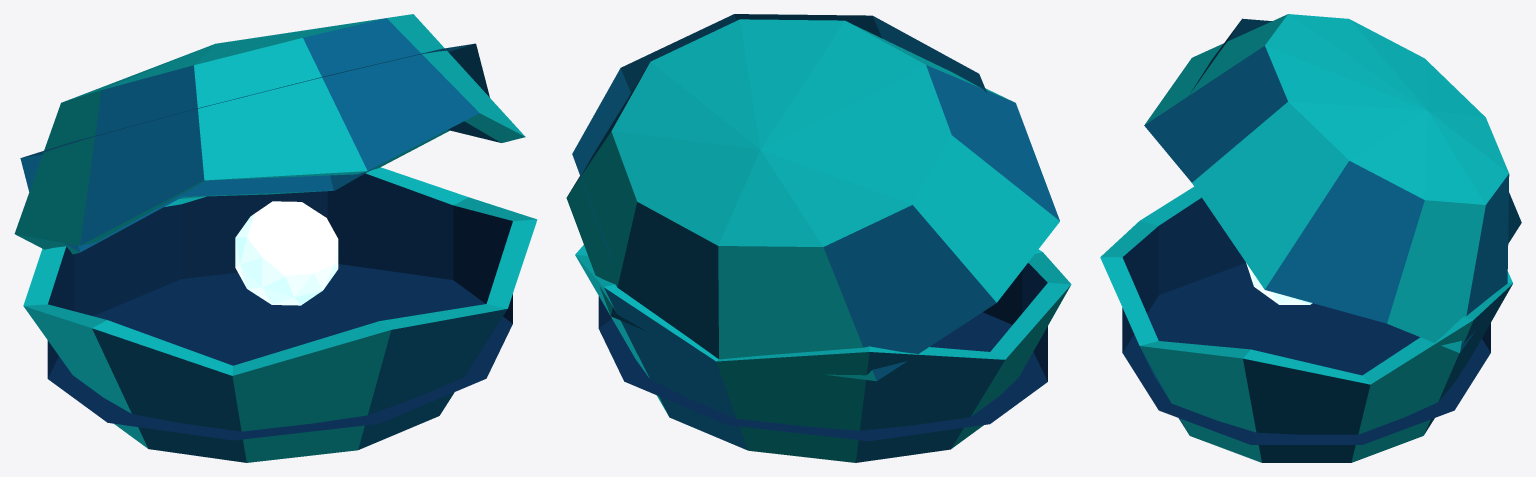
Rendered from clam_rest.glb.
3 renders of one model, left to right at view 1: azimuth 30°, elevation 25°; view 2: azimuth 150°, elevation 25°; view 3: azimuth 270°, elevation 25°, orthographic. The views are drawn at different scales.
Parts seen in each view (by area): view 1: Lower, Upper; view 2: Upper, Lower; view 3: Upper, Lower.
Part boxes in pixels (x1,y1,x2,y2): Lower: [23, 167, 537, 462]; Upper: [14, 14, 525, 254]; Upper: [566, 14, 1059, 381]; Lower: [575, 245, 1071, 462]; Upper: [1144, 14, 1521, 352]; Lower: [1100, 186, 1512, 462].
Size of the model in its own units: 2 by 1.65 by 1.76.
